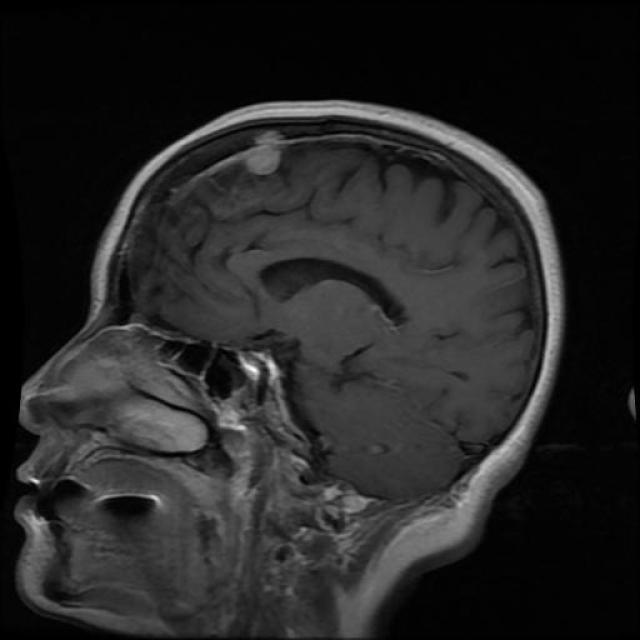meningioma: (244, 148, 281, 175)
